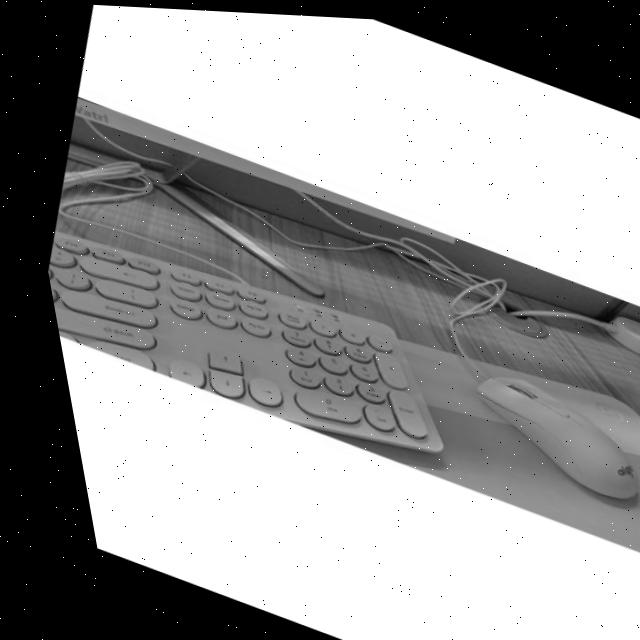klavye: (37, 231, 433, 451)
